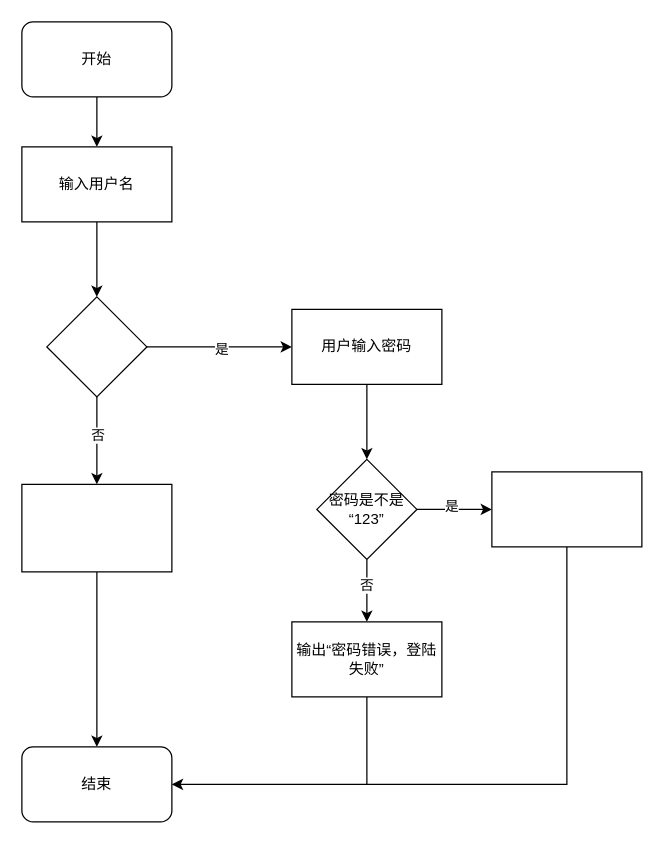
Image size: 664x844. Some labels were removed from this diagram. Here are the shapes that lost their labels. From the top down, the centre of each, then its label:
pixel 96 346: 用户名是不是“seven”
pixel 96 527: 输出“用户名有误”
pixel 566 509: 输出“登陆成功”
